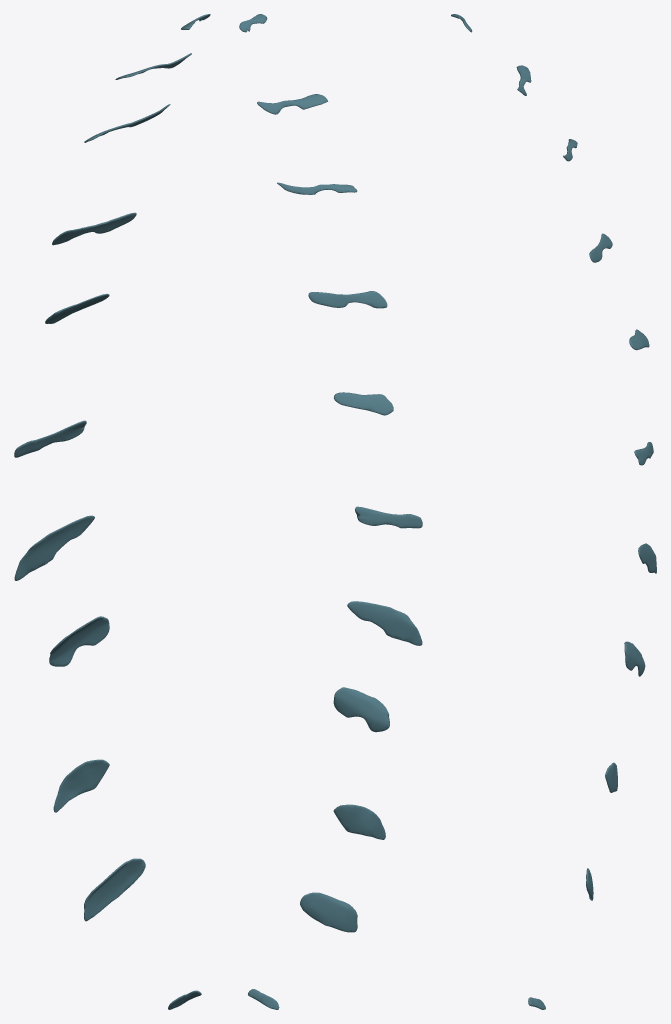
Rendered from Levatores_costarum_thoracic_insertions_right.glb.
The picture shows the model from 3 angles, left to right: view 1: azimuth 30°, elevation 25°; view 2: azimuth 210°, elevation 25°; view 3: azimuth 270°, elevation 25°; orthographic projection. The views are drawn at different scales.
Visible parts, largest first — view 1: Levatores_longi_costarum-Thoracic_insertions.r_Generated_Mes; view 2: Levatores_longi_costarum-Thoracic_insertions.r_Generated_Mes; view 3: Levatores_longi_costarum-Thoracic_insertions.r_Generated_Mes.
Part boxes in pixels (left/top/right/bottom): Levatores_longi_costarum-Thoracic_insertions.r_Generated_Mes: left=14, top=14, right=210, bottom=1009; Levatores_longi_costarum-Thoracic_insertions.r_Generated_Mes: left=239, top=14, right=422, bottom=1009; Levatores_longi_costarum-Thoracic_insertions.r_Generated_Mes: left=451, top=14, right=656, bottom=1009.
Size of the model in its own units: 0.0384 by 0.3066 by 0.0582.
